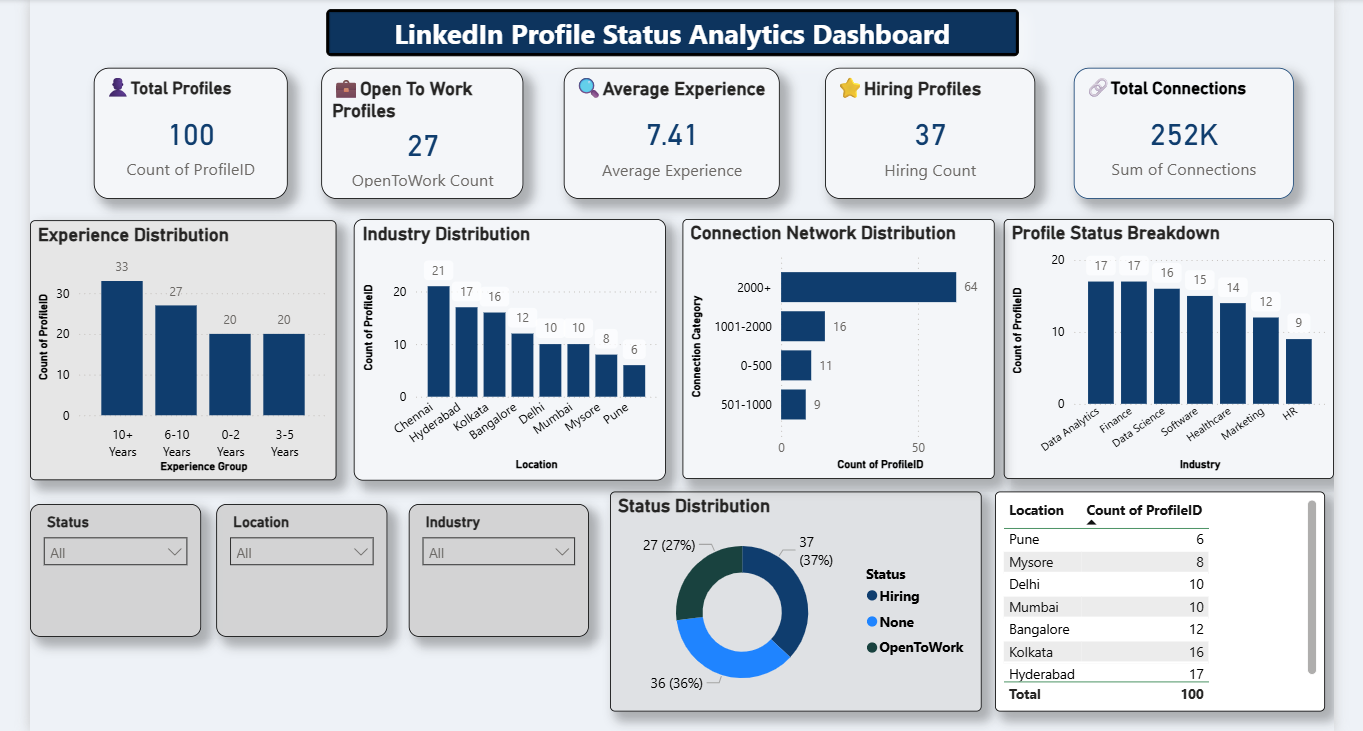

The page's visual inventory and layout, read from the dashboard file:
{"tool":"powerbi","page":{"name":"Page 1","canvas":[1280,720],"ordinal":0},"visuals":[{"type":"card","title":"Total Profiles ","fields":{"Values":["CountNonNull(LinkedInProfiles.ProfileID)"]},"box":[21.1,59.7,175.4,94.5],"z":0},{"type":"pieChart","title":"Status Distribution ","fields":{"Category":["LinkedInProfiles.Status"],"Y":["CountNonNull(LinkedInProfiles.ProfileID)"]},"box":[0,461.5,312.2,215.2],"z":1000},{"type":"lineClusteredColumnComboChart","title":"Profiles by Industry","fields":{"Category":["LinkedInProfiles.Industry"],"Y":["CountNonNull(LinkedInProfiles.ProfileID)"]},"box":[325.9,410.5,298.6,289.8],"z":2000},{"type":"lineClusteredColumnComboChart","title":"Profiles by Location","fields":{"Category":["LinkedInProfiles.Location"],"Y":["CountNonNull(LinkedInProfiles.ProfileID)"]},"box":[332.1,109.5,307.3,256.3],"z":3000},{"type":"card","title":"Open To Work Profiles","fields":{"Values":["LinkedInProfiles.OpenToWork Count"]},"box":[711.5,87.1,202.8,150.5],"z":4000},{"type":"card","title":"Hiring Profiles","fields":{"Values":["LinkedInProfiles.Hiring Count"]},"box":[1095.9,87.1,138.1,134.3],"z":5000},{"type":"card","title":"Average Experience","fields":{"Values":["LinkedInProfiles.Average Experience"]},"box":[914.3,87.1,166.7,150.5],"z":6000},{"type":"slicer","fields":{"Values":["LinkedInProfiles.Status"]},"box":[678,248.8,153,115.7],"z":7000},{"type":"slicer","fields":{"Values":["LinkedInProfiles.Industry"]},"box":[873.3,248.8,176.6,150.5],"z":8000},{"type":"textbox","box":[370.7,13.7,660.5,54.7],"z":9000},{"type":"clusteredColumnChart","title":"Profiles by Experience Level","fields":{"Category":["LinkedInProfiles.Experience Group"],"Y":["CountNonNull(LinkedInProfiles.ProfileID)"]},"box":[11.2,171.7,301,268.7],"z":10000},{"type":"clusteredBarChart","title":"Profiles by Connections","fields":{"Category":["LinkedInProfiles.Connection Category"],"Y":["CountNonNull(LinkedInProfiles.ProfileID)"]},"box":[624.5,421.7,261.2,255],"z":11000},{"type":"slicer","fields":{"Values":["LinkedInProfiles.Location"]},"box":[1081,237.6,150.5,151.8],"z":12000},{"type":"tableEx","title":"Detailed Profile Table ","fields":{"Values":["CountNonNull(LinkedInProfiles.ProfileID)","LinkedInProfiles.Status","LinkedInProfiles.Industry","LinkedInProfiles.Location"]},"box":[885.7,410.5,391.8,288.6],"z":12001}]}

Visuals, with their boxes on the page's 1280x720 design canvas (x1, y1, x2, y2). These are canvas units, not pixel positions in the 1363x731 screenshot, which may show the page scaled, cropped or inside an application window:
"Total Profiles " card: [21,60,196,154]
"Status Distribution " pieChart: [0,462,312,677]
"Profiles by Industry" lineClusteredColumnComboChart: [326,410,624,700]
"Profiles by Location" lineClusteredColumnComboChart: [332,110,639,366]
"Open To Work Profiles" card: [712,87,914,238]
"Hiring Profiles" card: [1096,87,1234,221]
"Average Experience" card: [914,87,1081,238]
slicer - LinkedInProfiles.Status: [678,249,831,364]
slicer - LinkedInProfiles.Industry: [873,249,1050,399]
textbox: [371,14,1031,68]
"Profiles by Experience Level" clusteredColumnChart: [11,172,312,440]
"Profiles by Connections" clusteredBarChart: [624,422,886,677]
slicer - LinkedInProfiles.Location: [1081,238,1232,389]
"Detailed Profile Table " tableEx: [886,410,1278,699]
